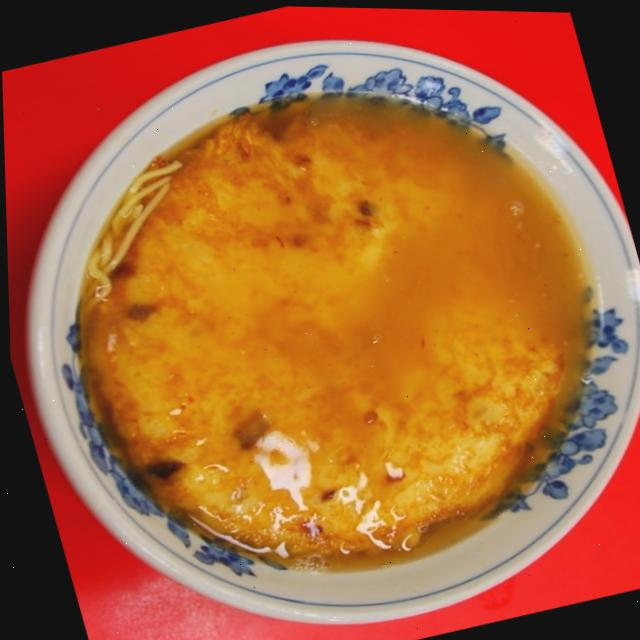面条主食: (11, 14, 640, 640)
